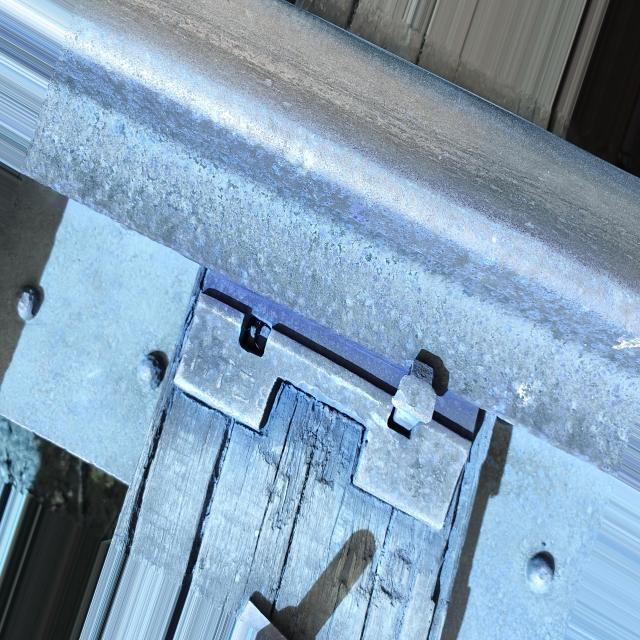Good Fasteners: (392, 359, 436, 431)
Missing Dogscrew: (239, 311, 272, 356)
